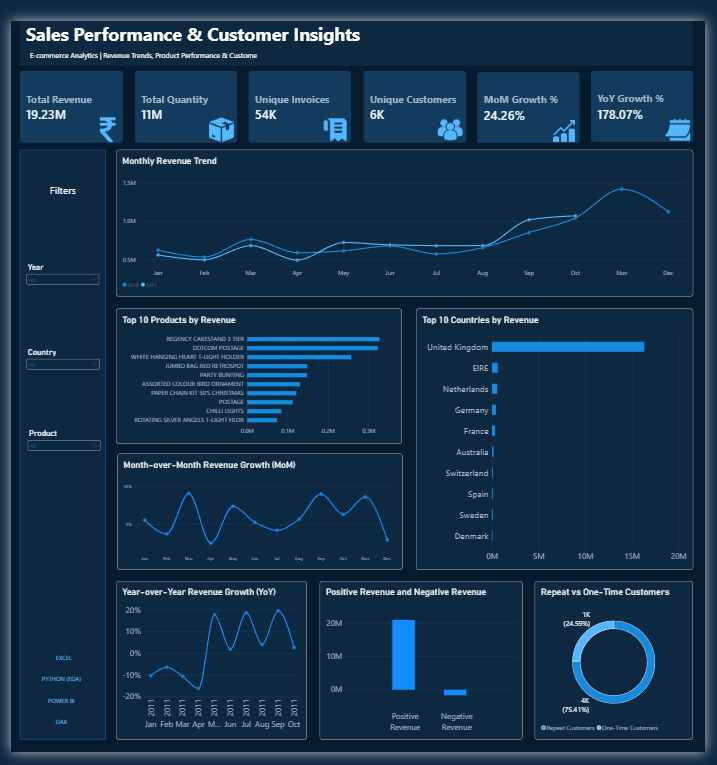

The page's visual inventory and layout, read from the dashboard file:
{"tool":"powerbi","page":{"name":"Page 2","canvas":[1850,1948],"ordinal":1},"visuals":[{"type":"lineChart","title":"Monthly Revenue Trend","fields":{"Category":["DateTable.Month"],"Series":["DateTable.Year"],"Y":["Sum(Online_Retail.Revenue)"]},"box":[280.4,344.6,1539.3,391.1],"z":0},{"type":"clusteredBarChart","title":"Top 10 Products by Revenue","fields":{"Category":["Online Retail.Description"],"Y":["Online Retail.Total Revenue"]},"box":[280.4,766.1,762.5,360.7],"z":1000},{"type":"clusteredBarChart","title":"Top 10 Countries by Revenue","fields":{"Category":["Online Retail.Country"],"Y":["Online Retail.Total Revenue"]},"box":[1080.4,766.1,739.3,696.4],"z":2000},{"type":"donutChart","title":"Repeat vs One-Time Customers","fields":{"Y":["Online Retail.Repeat Customers","Online Retail.One-Time Customers"]},"box":[1398.2,1492.9,421.4,423.2],"z":3000},{"type":"clusteredColumnChart","title":"Positive Revenue and Negative Revenue","fields":{"Category":["Online Retail.Sales Category"],"Y":["Online Retail.Total Revenue"]},"box":[825,1492.9,541.1,423.2],"z":4000},{"type":"lineChart","title":"Month-over-Month Revenue Growth (MoM)","fields":{"Category":["DateTable.Month"],"Y":["DateTable.MoM Growth %"]},"box":[282.1,1151.8,760.7,310.7],"z":5000},{"type":"shape","title":"Sales Trends & Growth","box":[25,0,1794.6,119.6],"z":6000},{"type":"lineChart","title":"Year-over-Year Revenue Growth (YoY)","fields":{"Category":["DateTable.Month","DateTable.Year"],"Y":["DateTable.YoY Growth %"]},"box":[280.4,1492.9,508.9,423.2],"z":7000},{"type":"textbox","box":[39.3,59,785.2,49.2],"z":8000},{"type":"shape","box":[23.3,343.3,230,1573.3],"z":9000},{"type":"slicer","fields":{"Values":["DateTable.Year"]},"box":[37.5,643.1,203.6,80.4],"z":10000},{"type":"slicer","fields":{"Values":["Online Retail.Country"]},"box":[37.5,869.8,205.4,69.6],"z":11000},{"type":"slicer","fields":{"Values":["Online Retail.Description"]},"box":[39.3,1085.7,203.3,82],"z":12000},{"type":"shape","box":[27.1,1731.1,215.3,49.2],"z":13000},{"type":"shape","box":[37.5,401.8,203.3,95.1],"z":14000},{"type":"cardVisual","fields":{"Data":["Online Retail.Total Revenue"]},"box":[25,133.9,275,191.1],"z":15000},{"type":"cardVisual","fields":{"Data":["Online Retail.Total Quantity"]},"box":[330.7,133.9,273.2,191.1],"z":16000},{"type":"cardVisual","fields":{"Data":["Online Retail.Unique Invoices"]},"box":[634.6,133.9,273.2,191.1],"z":17000},{"type":"cardVisual","fields":{"Data":["Online Retail.Unique Customers"]},"box":[938.6,133.9,273.2,191.1],"z":18000},{"type":"textbox","box":[39.2,0,1131.1,74.3],"z":19000},{"type":"cardVisual","title":"MoM Revenue Growth","fields":{"Data":["DateTable.MoM Growth %"]},"box":[1242.5,135.7,273.2,189.3],"z":20000},{"type":"cardVisual","fields":{"Data":["DateTable.YoY Growth %"]},"box":[1546.4,133.9,273.2,189.3],"z":21000},{"type":"image","box":[217.9,257.1,82.1,66.1],"z":22000},{"type":"image","box":[521.4,257.1,82.1,66.1],"z":23000},{"type":"image","box":[825,257.1,82.1,66.1],"z":24000},{"type":"image","box":[1128.6,257.1,82.1,66.1],"z":25000},{"type":"image","box":[1433.9,258.9,82.1,66.1],"z":26000},{"type":"image","box":[1737.5,257.1,82.1,66.1],"z":27000},{"type":"shape","box":[27.1,1787.6,215.3,49.2],"z":27001},{"type":"shape","box":[32.2,1674.6,215.3,49.2],"z":27002},{"type":"shape","box":[27.1,1844.1,215.3,49.2],"z":27003}]}

Visuals, with their boxes in screenshot pixels (x1, y1, x2, y2), scaled from the page's 1850x1948 canvas onto the 717x765 screenshot:
"Monthly Revenue Trend" lineChart: {"left": 109, "top": 135, "right": 705, "bottom": 289}
"Top 10 Products by Revenue" clusteredBarChart: {"left": 109, "top": 301, "right": 404, "bottom": 443}
"Top 10 Countries by Revenue" clusteredBarChart: {"left": 419, "top": 301, "right": 705, "bottom": 574}
"Repeat vs One-Time Customers" donutChart: {"left": 542, "top": 586, "right": 705, "bottom": 752}
"Positive Revenue and Negative Revenue" clusteredColumnChart: {"left": 320, "top": 586, "right": 529, "bottom": 752}
"Month-over-Month Revenue Growth (MoM)" lineChart: {"left": 109, "top": 452, "right": 404, "bottom": 574}
"Sales Trends & Growth" shape: {"left": 10, "top": 0, "right": 705, "bottom": 47}
"Year-over-Year Revenue Growth (YoY)" lineChart: {"left": 109, "top": 586, "right": 306, "bottom": 752}
textbox: {"left": 15, "top": 23, "right": 320, "bottom": 42}
shape: {"left": 9, "top": 135, "right": 98, "bottom": 753}
slicer - DateTable.Year: {"left": 15, "top": 253, "right": 93, "bottom": 284}
slicer - Online Retail.Country: {"left": 15, "top": 342, "right": 94, "bottom": 369}
slicer - Online Retail.Description: {"left": 15, "top": 426, "right": 94, "bottom": 459}
shape: {"left": 11, "top": 680, "right": 94, "bottom": 699}
shape: {"left": 15, "top": 158, "right": 93, "bottom": 195}
cardVisual - Online Retail.Total Revenue: {"left": 10, "top": 53, "right": 116, "bottom": 128}
cardVisual - Online Retail.Total Quantity: {"left": 128, "top": 53, "right": 234, "bottom": 128}
cardVisual - Online Retail.Unique Invoices: {"left": 246, "top": 53, "right": 352, "bottom": 128}
cardVisual - Online Retail.Unique Customers: {"left": 364, "top": 53, "right": 470, "bottom": 128}
textbox: {"left": 15, "top": 0, "right": 454, "bottom": 29}
"MoM Revenue Growth" cardVisual: {"left": 482, "top": 53, "right": 587, "bottom": 128}
cardVisual - DateTable.YoY Growth %: {"left": 599, "top": 53, "right": 705, "bottom": 127}
image: {"left": 84, "top": 101, "right": 116, "bottom": 127}
image: {"left": 202, "top": 101, "right": 234, "bottom": 127}
image: {"left": 320, "top": 101, "right": 352, "bottom": 127}
image: {"left": 437, "top": 101, "right": 469, "bottom": 127}
image: {"left": 556, "top": 102, "right": 588, "bottom": 128}
image: {"left": 673, "top": 101, "right": 705, "bottom": 127}
shape: {"left": 11, "top": 702, "right": 94, "bottom": 721}
shape: {"left": 12, "top": 658, "right": 96, "bottom": 677}
shape: {"left": 11, "top": 724, "right": 94, "bottom": 744}
